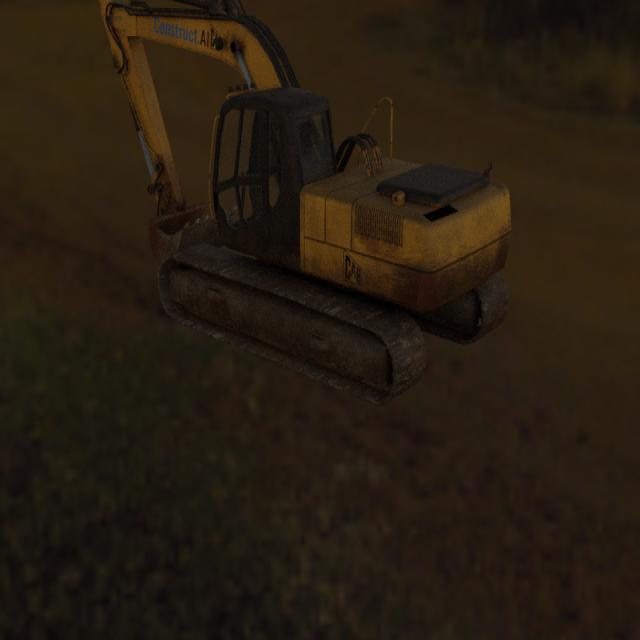excavator: (98, 0, 511, 407)
